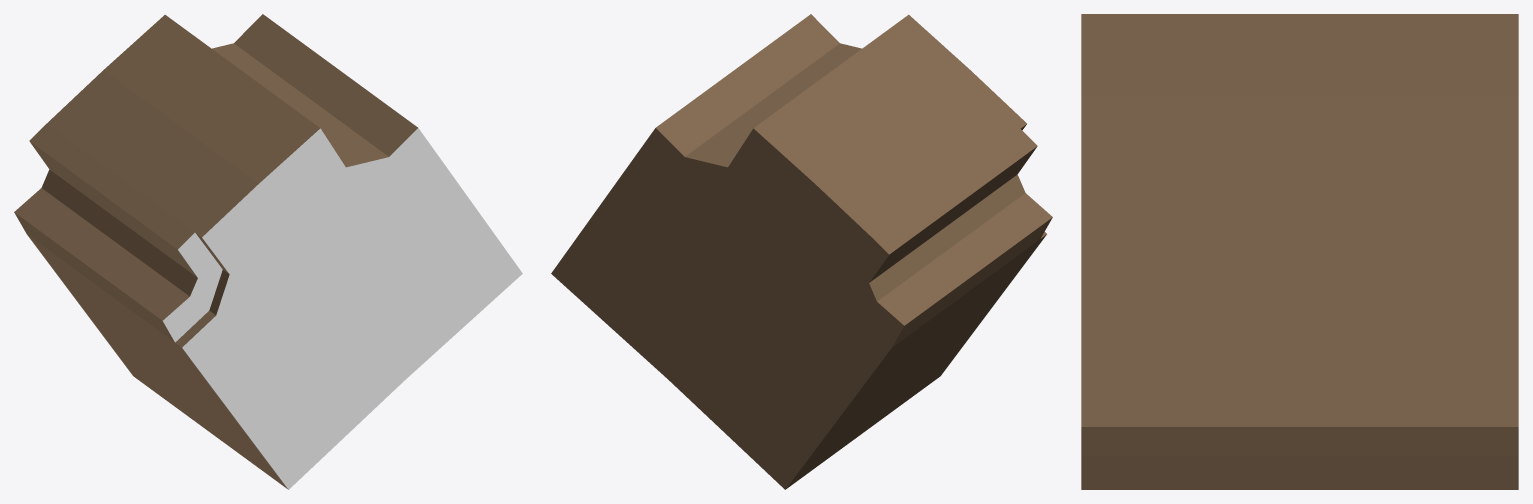
3 renders of one model, left to right at view 1: azimuth 30°, elevation 25°; view 2: azimuth 150°, elevation 25°; view 3: azimuth 270°, elevation 25°, orthographic. The views are drawn at different scales.
Visible parts, largest first — view 1: City_1565378; view 2: City_1565378; view 3: City_1565378.
Boxes of the visible parts, bbox=[...] form: City_1565378: bbox=[14, 14, 522, 489]; City_1565378: bbox=[551, 14, 1052, 489]; City_1565378: bbox=[1081, 14, 1518, 489].
Bounding box in the file's own units: 1829 × 1751 × 1393.
